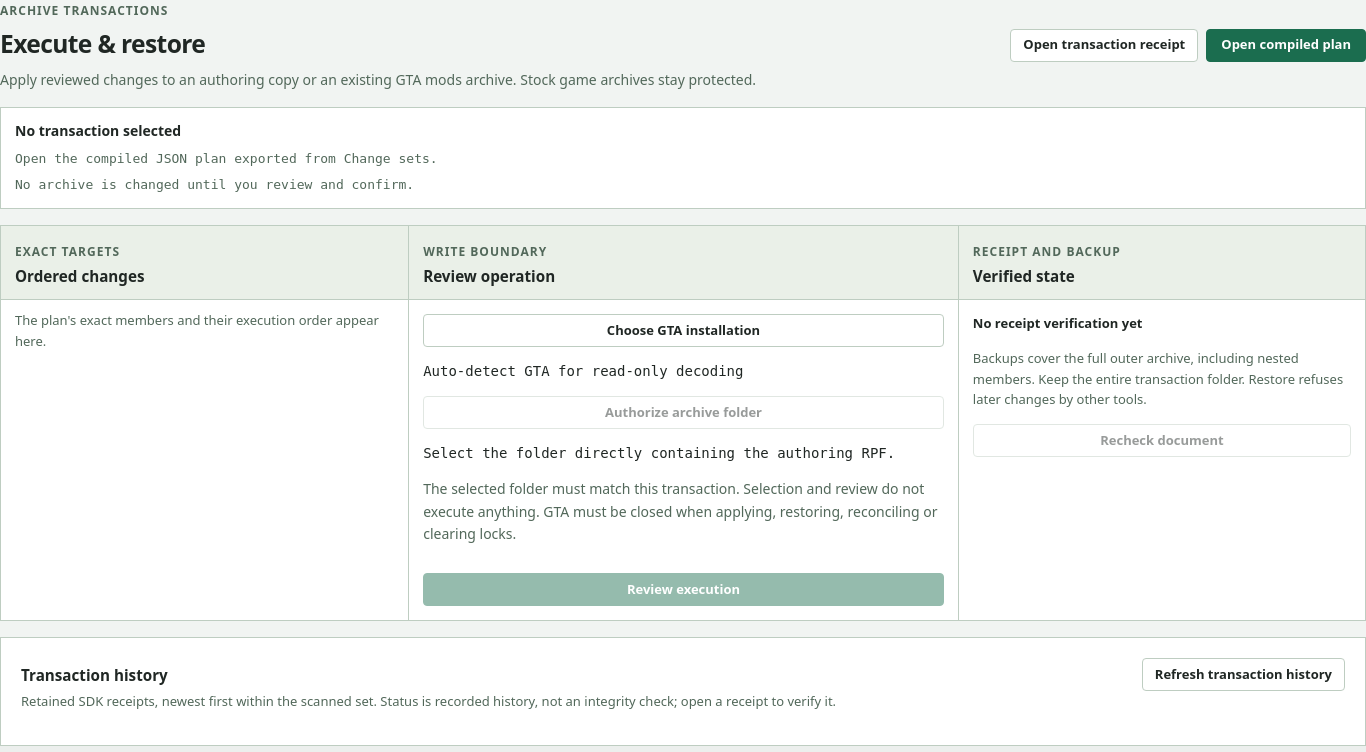
it: retains the selected document but clears confirmation after a stale write failure
Step 1. Click the button "Open compiled plan" → (1286, 45), box [1206, 29, 1365, 62]
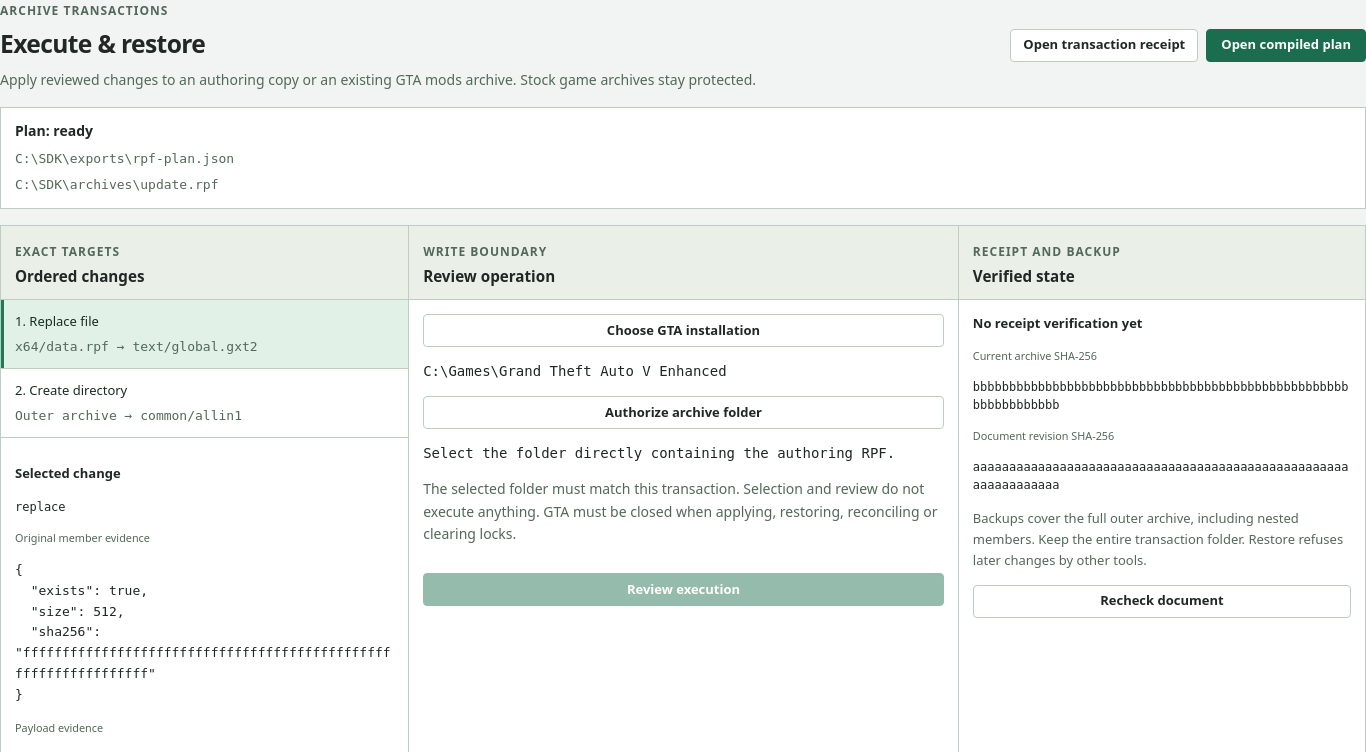
Check: the text "Plan: ready" is shown, box [15, 121, 93, 140]
Step 2. Click the button "Authorize archive folder" → (684, 413), box [423, 396, 944, 429]
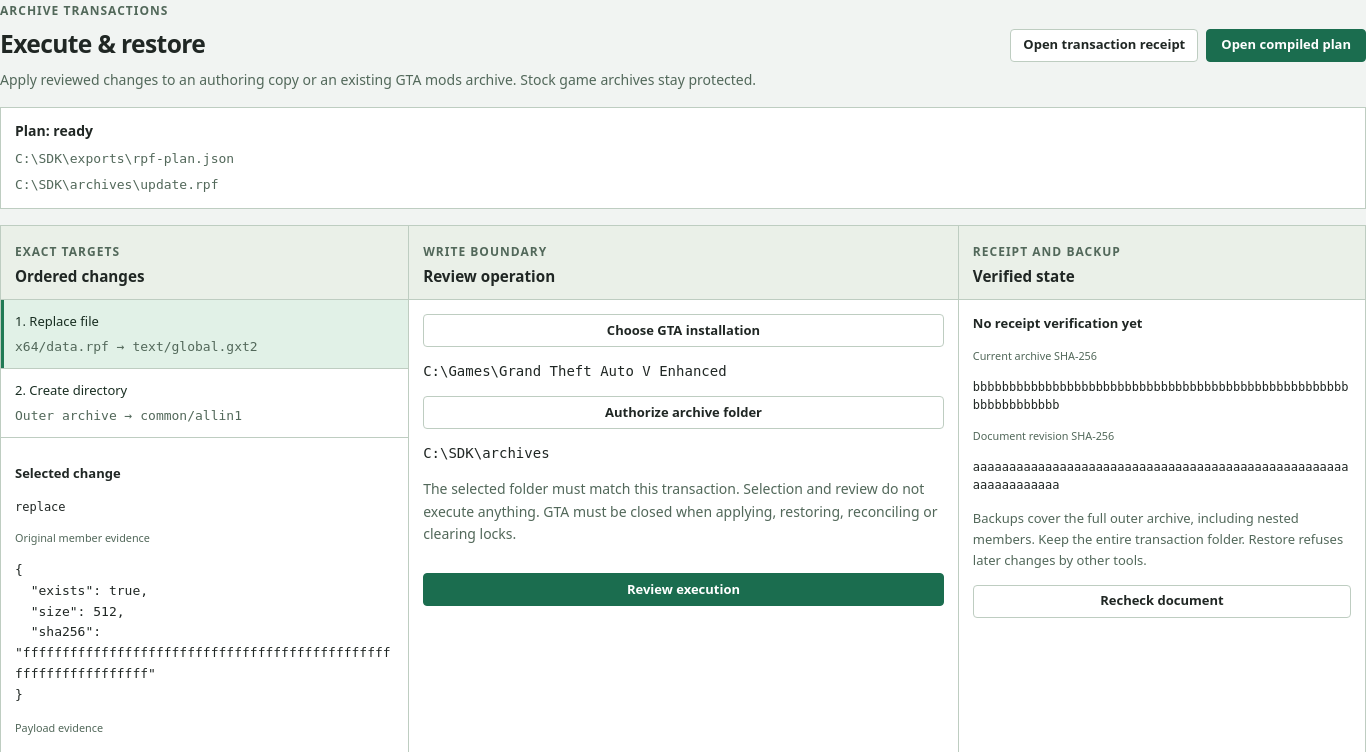
Step 3. Click the button "Review execution" → (684, 590), box [423, 573, 944, 606]
(page scrolled)
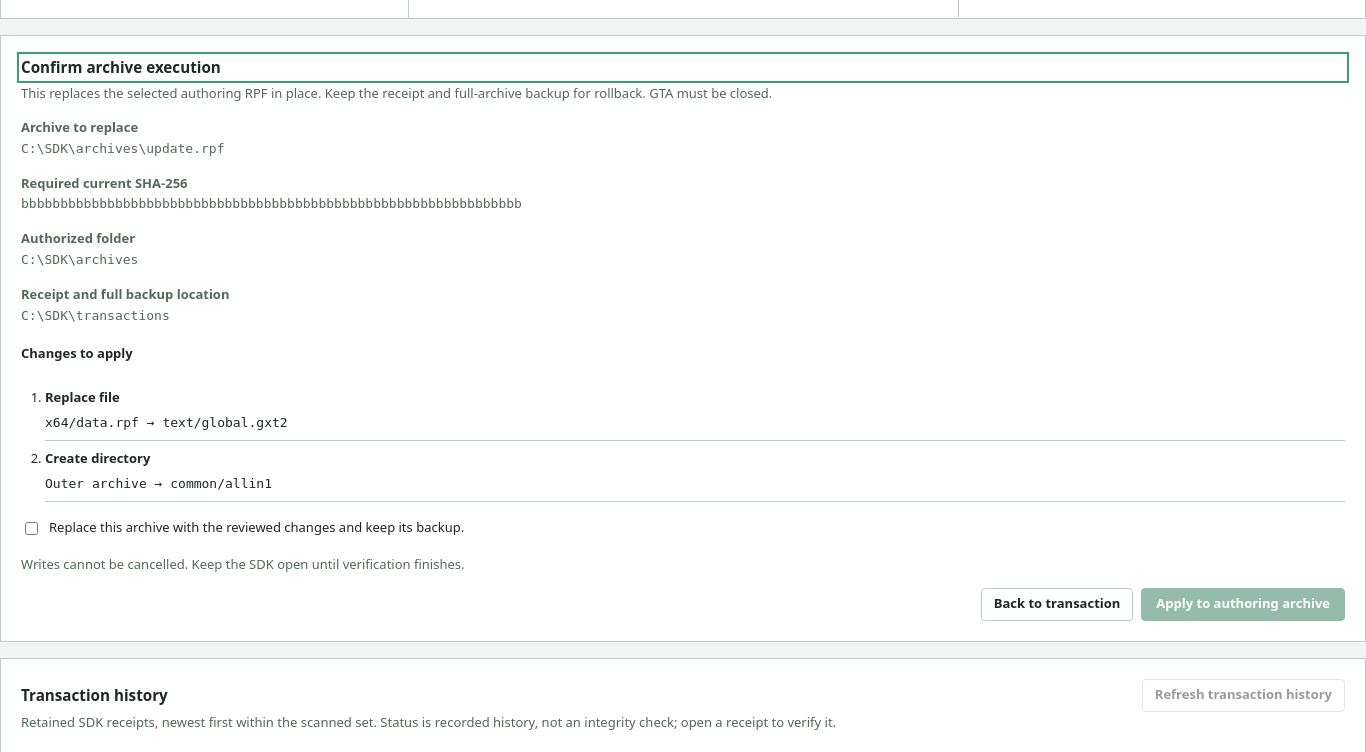
Step 4. Click the checkbox → (32, 528), box [25, 522, 38, 535]
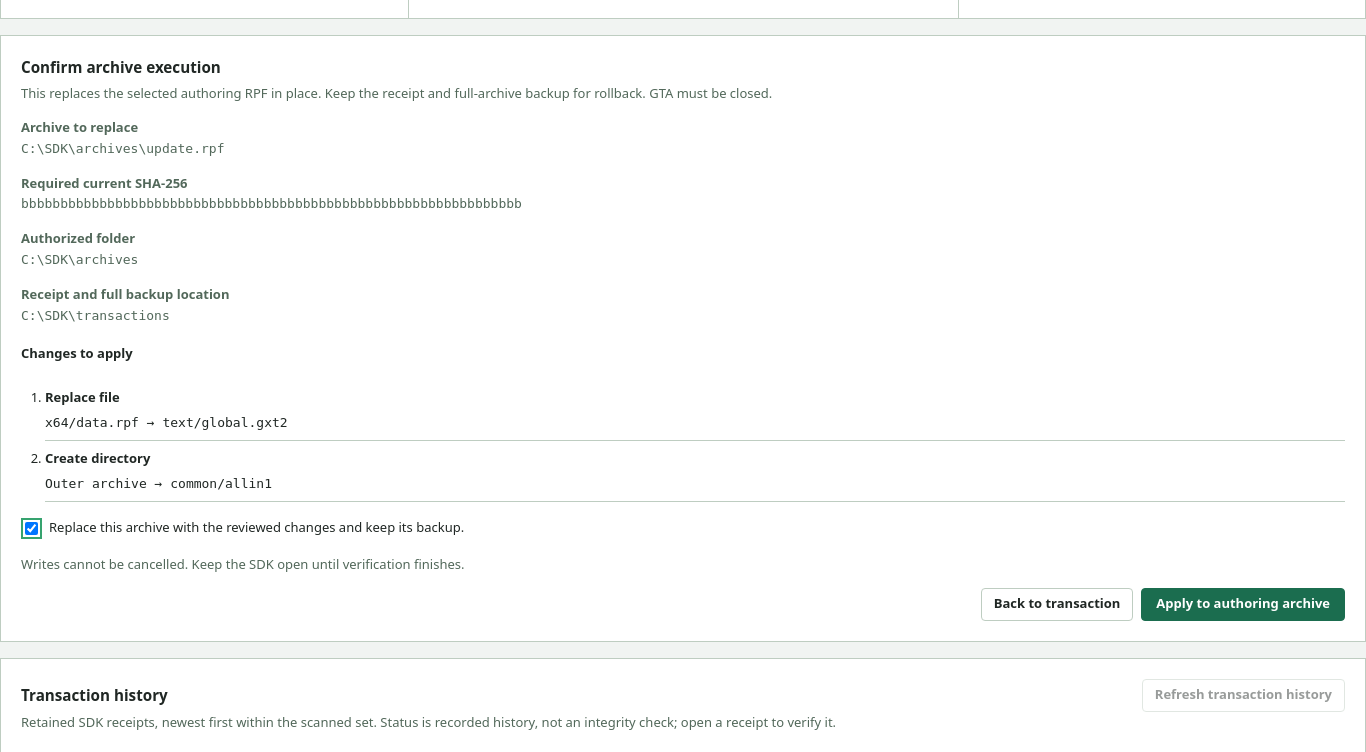
Step 5. Click the button "Apply to authoring archive" → (1243, 604), box [1141, 588, 1345, 621]
(page scrolled)
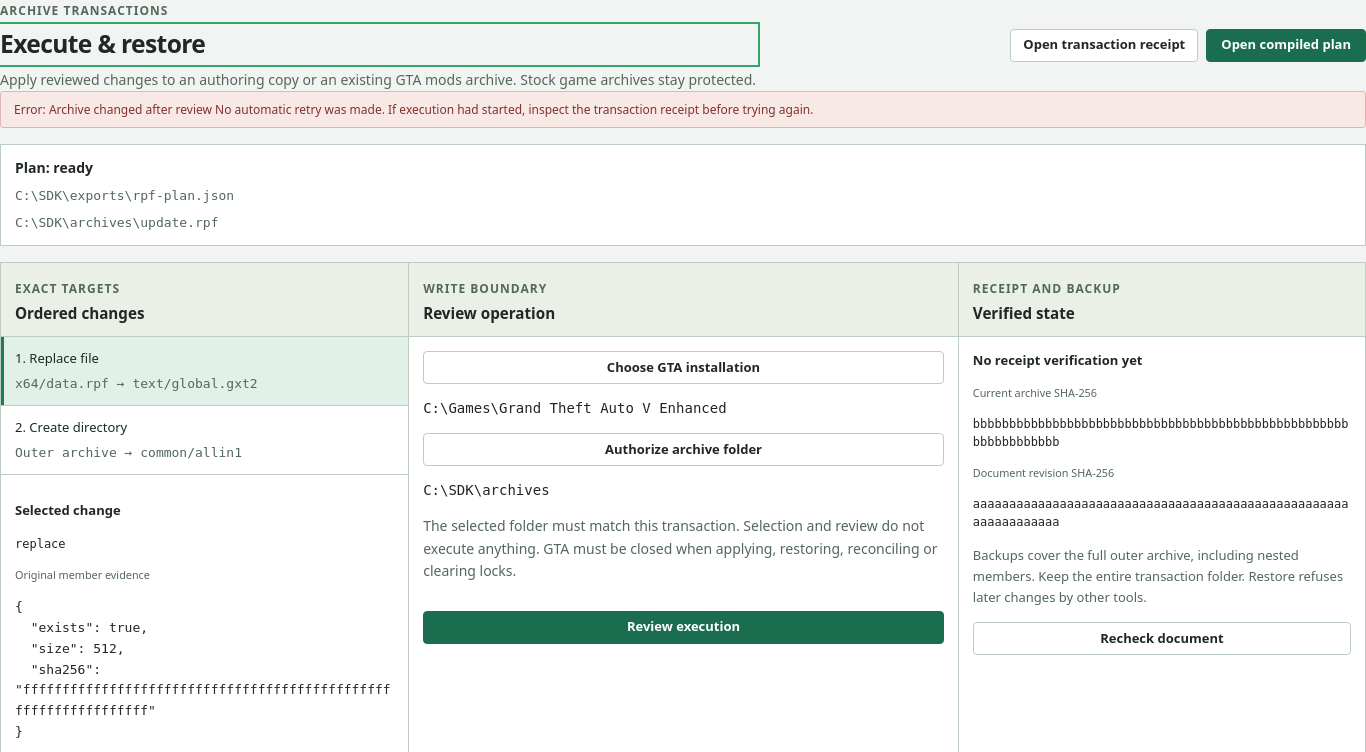
Check: the message shows "Archive changed", box [14, 101, 212, 118]
Step 6. Click the button "Review execution" → (684, 627), box [423, 611, 944, 644]
(page scrolled)
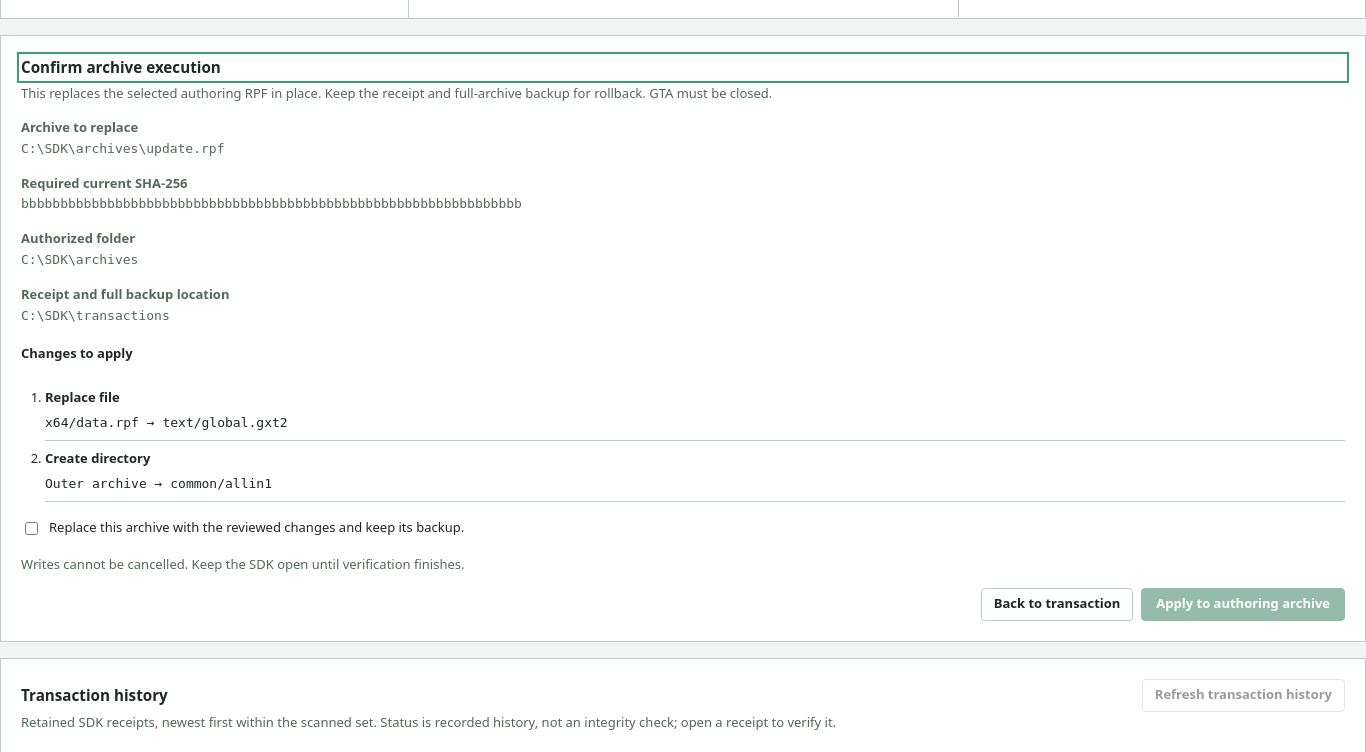
Check: the checkbox is not checked, box [25, 522, 38, 535]
